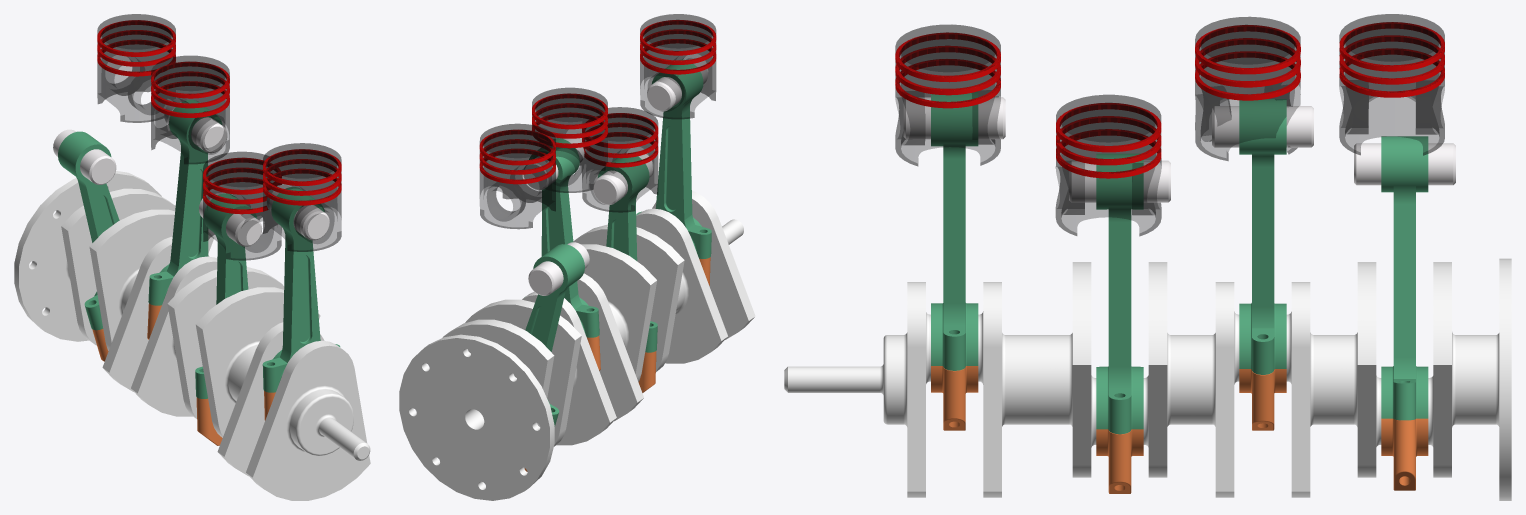
File: sitedefault.glb
The picture shows the model from 3 angles, left to right: view 1: azimuth 30°, elevation 25°; view 2: azimuth 150°, elevation 25°; view 3: azimuth 270°, elevation 25°; orthographic projection. The views are drawn at different scales.
Parts seen in each view (by area): view 1: csq, Piston003 (×2), Piston, Piston001, ConnectingRod003, ConnectingRod002, ConnectingRod001, ConnectingRod004, pistonRing011 (×2), pistonRing010 (×2), pistonRing009 (×2), PistonPin001 (+10 smaller); view 2: csq, Piston003 (×2), Piston001, ConnectingRod003, Piston, ConnectingRod002, ConnectingRod004, ConnectingRod001, pistonRing011 (×2), pistonRing010 (×2), pistonRing009 (×2), PistonPin001 (+10 smaller); view 3: csq, Piston003 (×2), Piston001, Piston, ConnectingRod002, ConnectingRod001, ConnectingRod004, ConnectingRod003, pistonRing011 (×2), pistonRing010 (×2), pistonRing009 (×2), ConnectingRodCap001 (+13 smaller).
Boxes of the visible parts, box(x1,y1,x2,y2) form: csq: box(14, 171, 370, 500); Piston003 (×2): box(203, 143, 341, 260); Piston: box(151, 55, 229, 164); Piston001: box(97, 14, 175, 122); ConnectingRod003: box(262, 187, 340, 392); ConnectingRod002: box(148, 99, 222, 305); ConnectingRod001: box(58, 131, 119, 330); ConnectingRod004: box(195, 193, 256, 398); pistonRing011 (×2): box(203, 149, 341, 194); pistonRing010 (×2): box(203, 159, 341, 204); pistonRing009 (×2): box(203, 169, 341, 214); PistonPin001: box(53, 129, 116, 184); csq: box(399, 191, 755, 500); Piston003 (×2): box(582, 14, 716, 212); Piston001: box(479, 123, 555, 229); ConnectingRod003: box(636, 59, 711, 258); Piston: box(532, 87, 607, 192); ConnectingRod002: box(524, 138, 599, 337); ConnectingRod004: box(598, 156, 657, 352); ConnectingRod001: box(525, 244, 584, 426); pistonRing011 (×2): box(582, 20, 716, 148); pistonRing010 (×2): box(582, 29, 716, 158); pistonRing009 (×2): box(583, 39, 716, 167); PistonPin001: box(528, 242, 589, 295); csq: box(784, 258, 1511, 500); Piston003 (×2): box(895, 24, 1161, 236); Piston001: box(1339, 14, 1444, 155); Piston: box(1195, 16, 1300, 160); ConnectingRod002: box(1239, 99, 1286, 374); ConnectingRod001: box(1381, 136, 1428, 420); ConnectingRod004: box(1096, 153, 1143, 434); ConnectingRod003: box(931, 91, 978, 370); pistonRing011 (×2): box(895, 33, 1161, 152); pistonRing010 (×2): box(895, 46, 1161, 165); pistonRing009 (×2): box(895, 59, 1161, 178); ConnectingRodCap001: box(1381, 418, 1428, 490).
Size of the model in its own units: 0.1937 by 0.4073 by 0.585.
